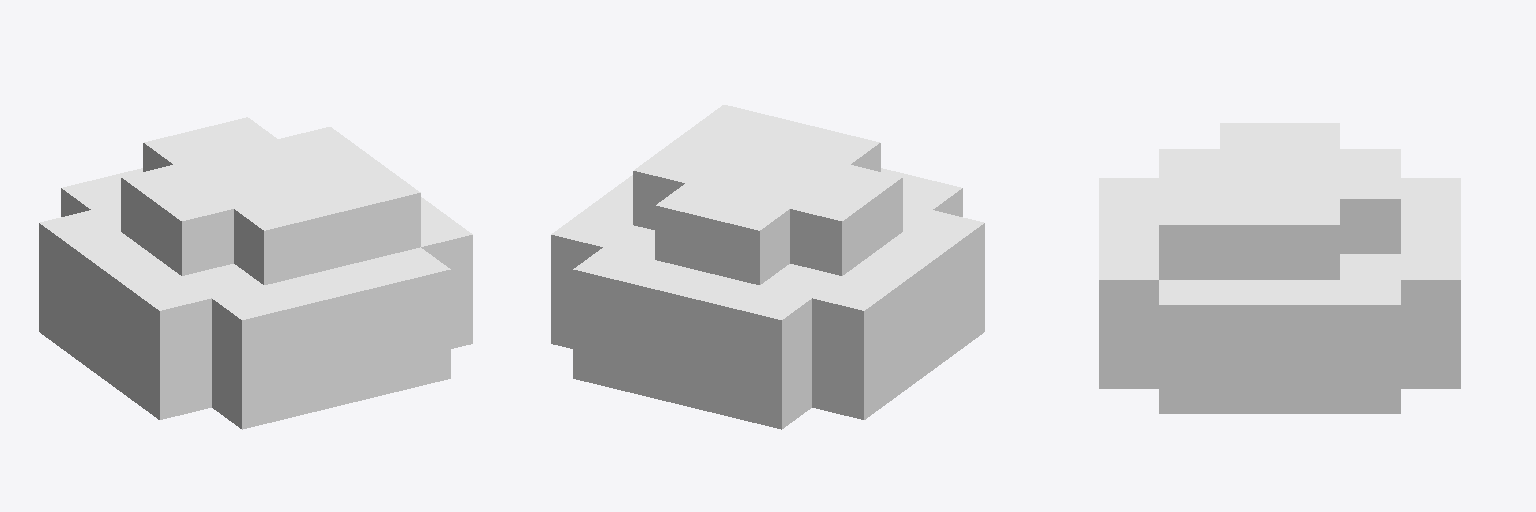
The model's file is glue_cinnamon_roll.obj.
The picture shows the model from 3 angles: view 1: azimuth 30°, elevation 25°; view 2: azimuth 150°, elevation 25°; view 3: azimuth 270°, elevation 25°; orthographic projection.
Parts seen in each view (by area): view 1: object 1; view 2: object 1; view 3: object 1.
Part boxes in pixels (bbox=[...]): object 1: bbox=[39, 117, 472, 429]; object 1: bbox=[551, 105, 984, 429]; object 1: bbox=[1099, 123, 1460, 413].
Size of the model in its own units: 0.6 by 0.3 by 0.6.